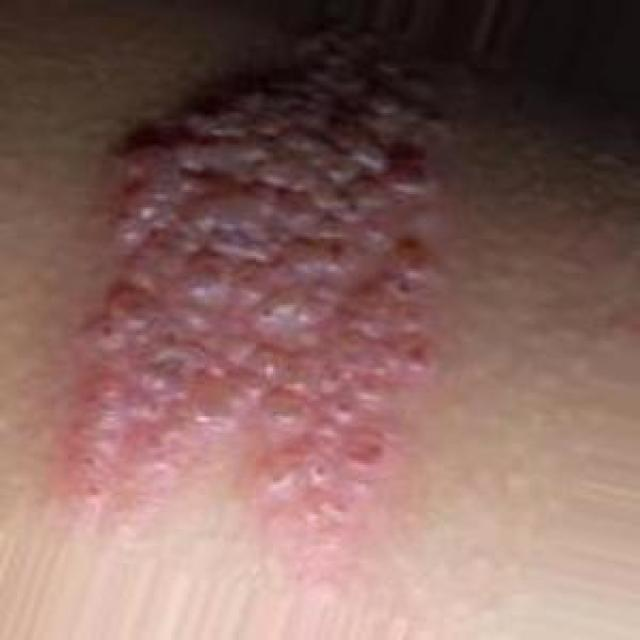Shingles: (51, 37, 444, 540)
